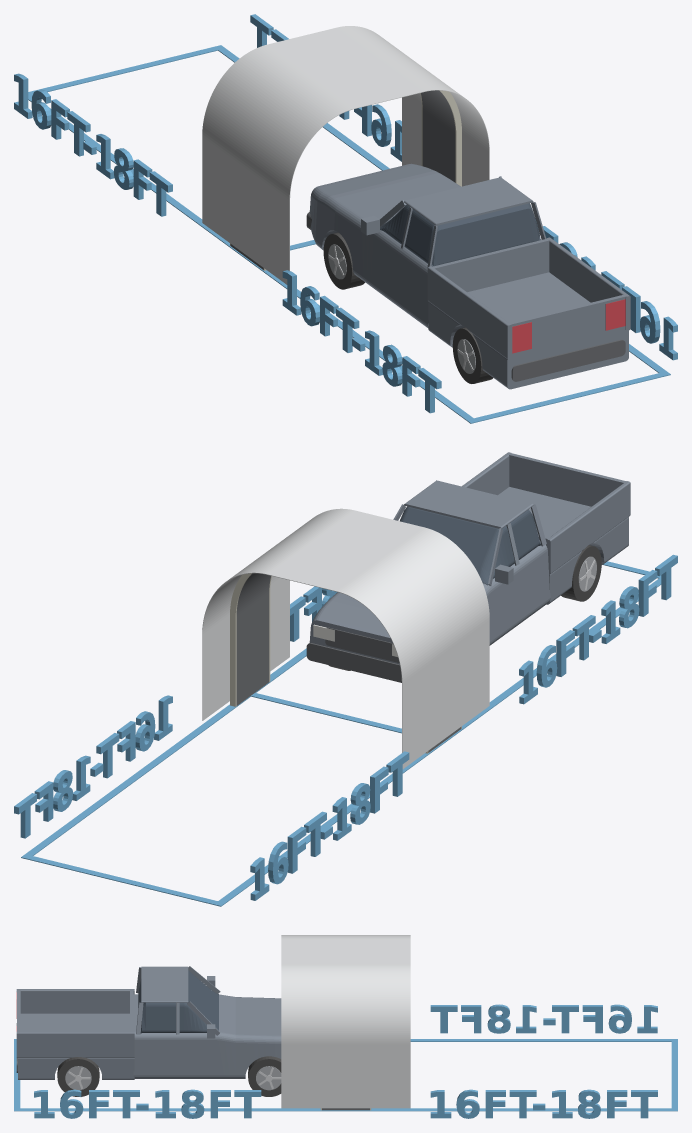
The model's file is colibri-cover-truck.glb.
3 renders of one model, top to bottom at view 1: azimuth 30°, elevation 25°; view 2: azimuth 150°, elevation 25°; view 3: azimuth 270°, elevation 25°, orthographic. The views are drawn at different scales.
Parts seen in each view (by area): view 1: sun_cover, vehicle_body, vehicle_glass, label_far_end_other_side, label_near_end_other_side, vehicle_bed_front, vehicle_roof, vehicle_tailgate, vehicle_bed_wall_l, arch_shell, vehicle_bed_wall_r, label_near_end (+9 smaller); view 2: sun_cover, vehicle_body, label_near_end_other_side, label_far_end_other_side, label_far_end, vehicle_glass, arch_shell, vehicle_tailgate, vehicle_roof, vehicle_bed_wall_l, lane_right, vehicle_bumper_front (+8 smaller); view 3: sun_cover, vehicle_body, label_far_end_other_side, label_far_end, label_near_end, vehicle_bed_wall_r, vehicle_glass, vehicle_bed_wall_l, lane_right, vehicle_roof, vehicle_tire_rear_r, lane_left (+5 smaller).
Part boxes in pixels (bbox=[...]): sun_cover: bbox=[202, 26, 489, 284]; vehicle_body: bbox=[309, 163, 628, 389]; vehicle_glass: bbox=[380, 203, 540, 266]; label_far_end_other_side: bbox=[14, 73, 172, 216]; label_near_end_other_side: bbox=[282, 270, 441, 413]; vehicle_bed_front: bbox=[428, 238, 552, 302]; vehicle_roof: bbox=[404, 177, 533, 225]; vehicle_tailgate: bbox=[505, 294, 627, 358]; vehicle_bed_wall_l: bbox=[427, 266, 512, 359]; arch_shell: bbox=[230, 90, 455, 269]; vehicle_bed_wall_r: bbox=[546, 237, 630, 330]; label_near_end: bbox=[543, 226, 677, 360]; sun_cover: bbox=[202, 508, 489, 768]; vehicle_body: bbox=[309, 487, 628, 664]; label_near_end_other_side: bbox=[519, 554, 677, 704]; label_far_end_other_side: bbox=[250, 751, 409, 900]; label_far_end: bbox=[14, 695, 172, 838]; vehicle_glass: bbox=[400, 506, 541, 585]; arch_shell: bbox=[236, 573, 461, 752]; vehicle_tailgate: bbox=[506, 452, 630, 515]; vehicle_roof: bbox=[404, 480, 533, 528]; vehicle_bed_wall_l: bbox=[546, 481, 630, 574]; lane_right: bbox=[21, 648, 306, 859]; vehicle_bumper_front: bbox=[306, 643, 401, 682]; sun_cover: bbox=[281, 935, 410, 1108]; vehicle_body: bbox=[18, 994, 281, 1079]; label_far_end_other_side: bbox=[430, 1004, 657, 1033]; label_far_end: bbox=[430, 1089, 657, 1118]; label_near_end: bbox=[34, 1089, 261, 1118]; vehicle_bed_wall_r: bbox=[16, 1031, 134, 1057]; vehicle_glass: bbox=[138, 970, 218, 1033]; vehicle_bed_wall_l: bbox=[16, 989, 134, 1013]; lane_right: bbox=[14, 1108, 677, 1111]; vehicle_roof: bbox=[141, 966, 188, 1002]; vehicle_tire_rear_r: bbox=[57, 1057, 99, 1096]; lane_left: bbox=[14, 1039, 677, 1041].
Size of the model in its own units: 3.98 by 2.63 by 12.86.
